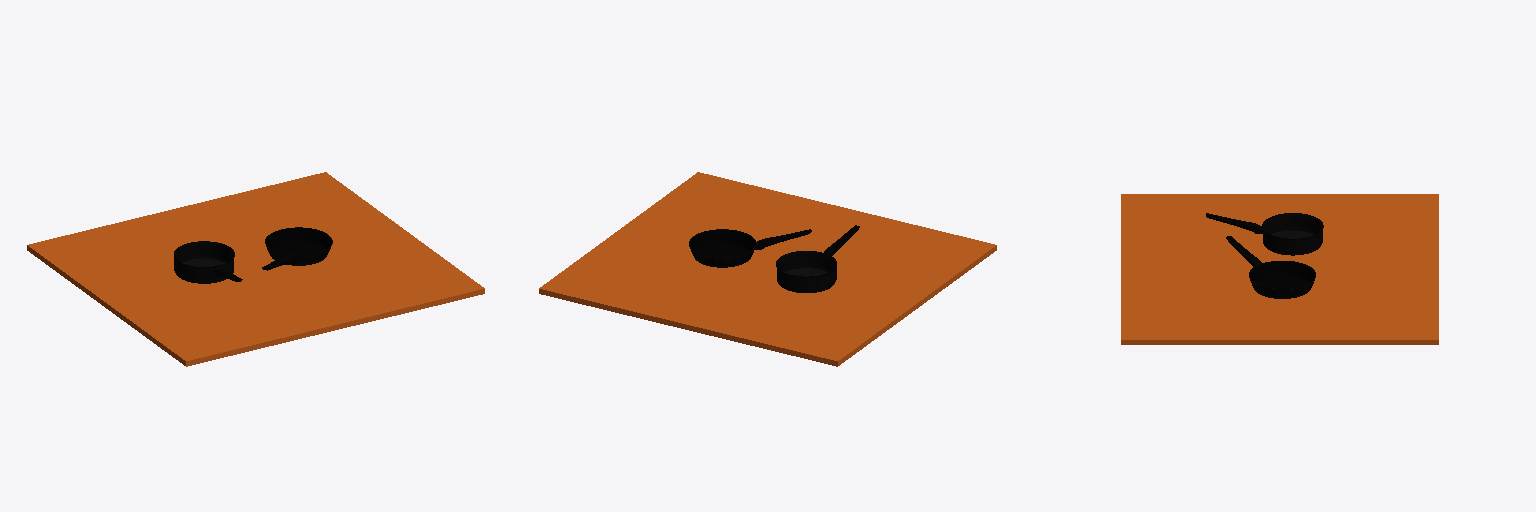
The model's file is pans.obj.
3 renders of one model, left to right at view 1: azimuth 30°, elevation 25°; view 2: azimuth 150°, elevation 25°; view 3: azimuth 270°, elevation 25°, orthographic.
Parts seen in each view (by area): view 1: Cube.001, Cylinder.003, Cylinder.005_Cylinder.005_Cylinder.005_Cylinder.005_Cylinder.002; view 2: Cube.001, Cylinder.003, Cylinder.005_Cylinder.005_Cylinder.005_Cylinder.005_Cylinder.002; view 3: Cube.001, Cylinder.003, Cylinder.005_Cylinder.005_Cylinder.005_Cylinder.005_Cylinder.002.
Boxes of the visible parts, box(x1,y1,x2,y2) form: Cube.001: box(27, 172, 484, 366); Cylinder.003: box(174, 241, 242, 283); Cylinder.005_Cylinder.005_Cylinder.005_Cylinder.005_Cylinder.002: box(262, 227, 332, 270); Cube.001: box(539, 172, 996, 366); Cylinder.003: box(776, 225, 859, 292); Cylinder.005_Cylinder.005_Cylinder.005_Cylinder.005_Cylinder.002: box(689, 229, 811, 267); Cube.001: box(1121, 194, 1438, 344); Cylinder.003: box(1206, 213, 1323, 255); Cylinder.005_Cylinder.005_Cylinder.005_Cylinder.005_Cylinder.002: box(1226, 236, 1315, 298).
Size of the model in its own units: 17.23 by 1.77 by 15.9.